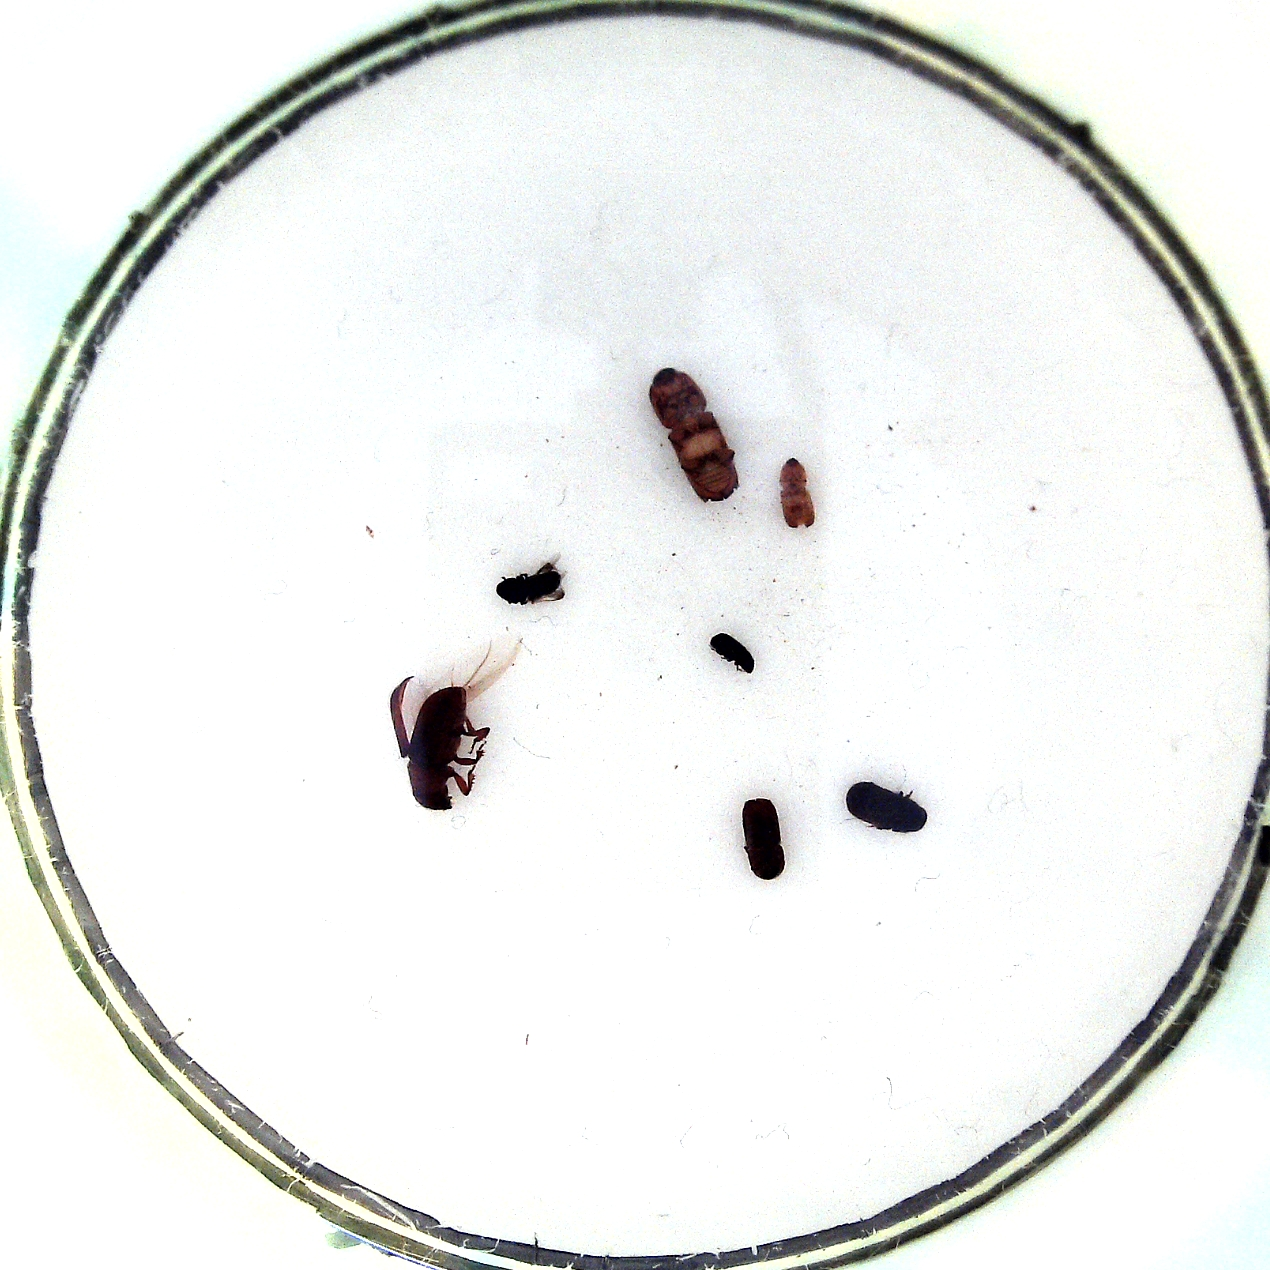Boerner: (645, 361, 747, 509)
Leconte: (381, 632, 529, 814)
Linnaeus: (739, 791, 791, 886)
acuminatus: (776, 454, 822, 533)
armandi: (840, 773, 932, 835)
coleoptera: (491, 550, 571, 611), (704, 627, 763, 676)
